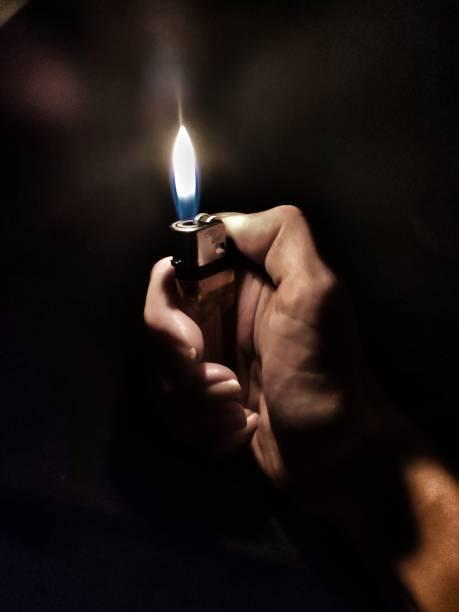Fire: (166, 98, 205, 221)
